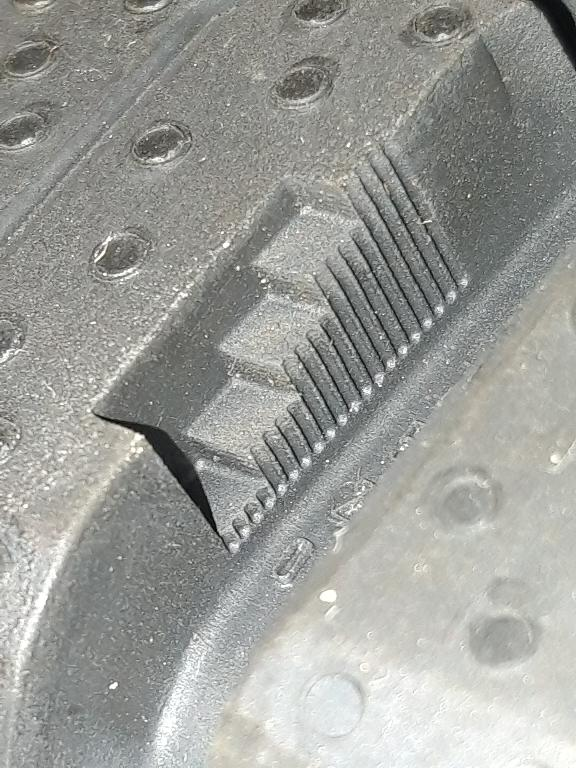temoin:100: (88, 148, 450, 554)
